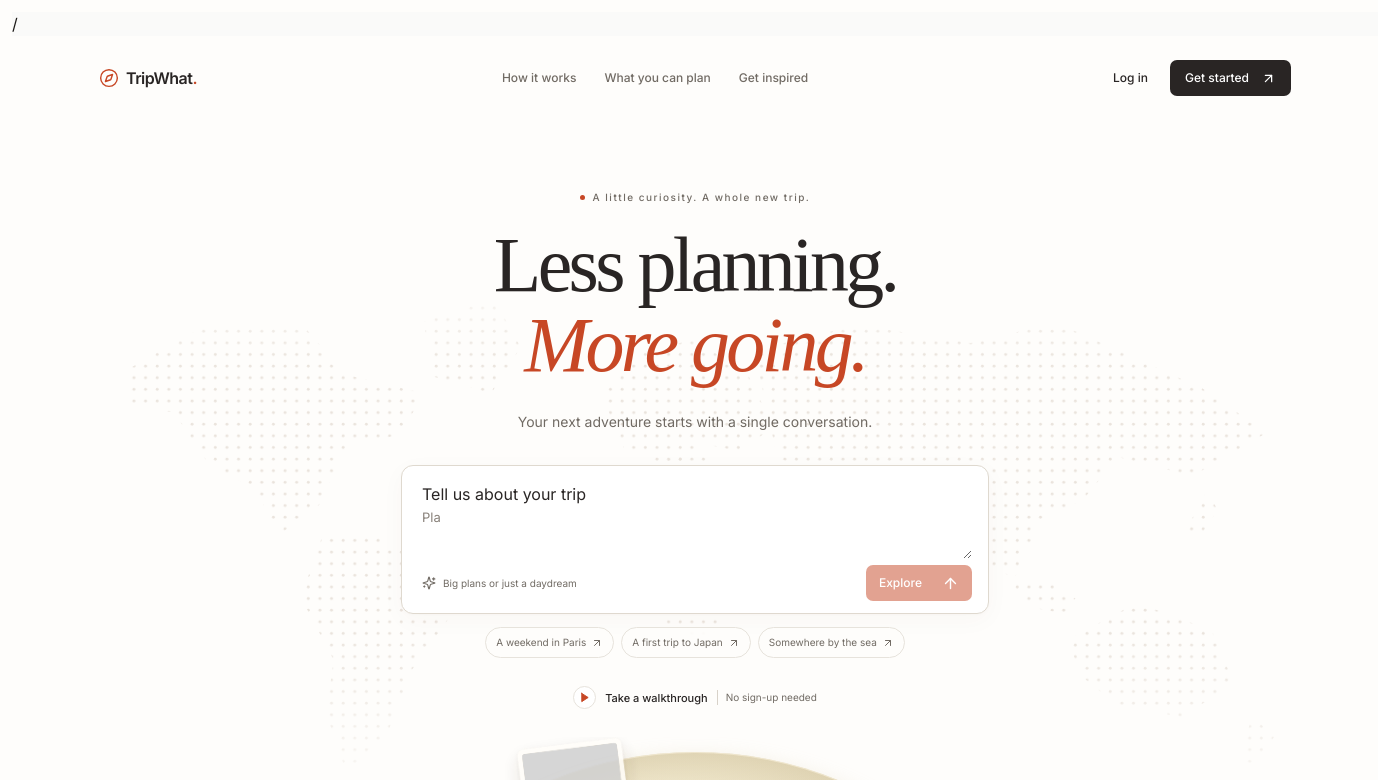
it: landing page › lets people edit an idea before submitting it
Click the button "A weekend in Paris" at (550, 643), box [485,627,614,658]
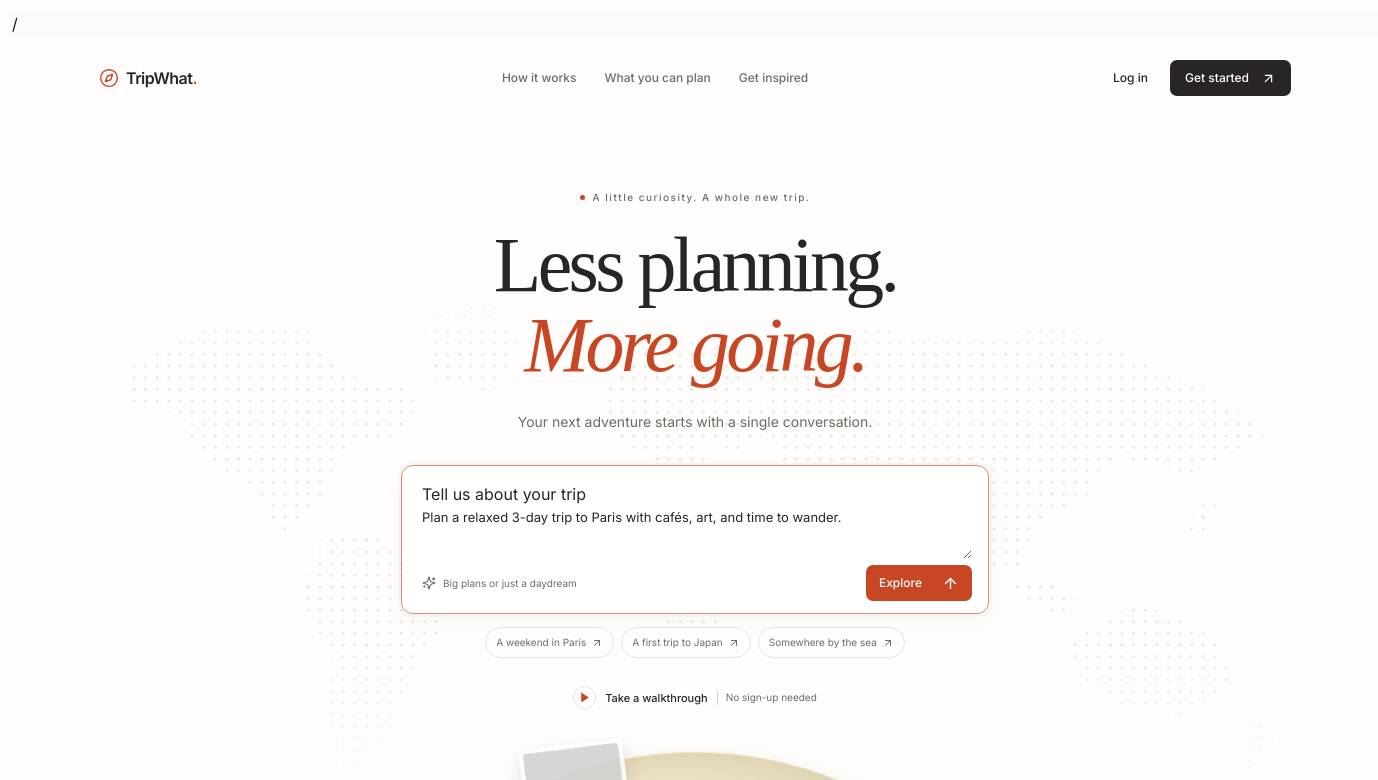
Check: the text with test id "location" reads "/", box [12,14,18,34]
Check: the text box labelled "Tell us about your trip" holds "Plan a relaxed 3-day trip to Paris with cafés, art, and time to wander.", box [422,506,972,559]
